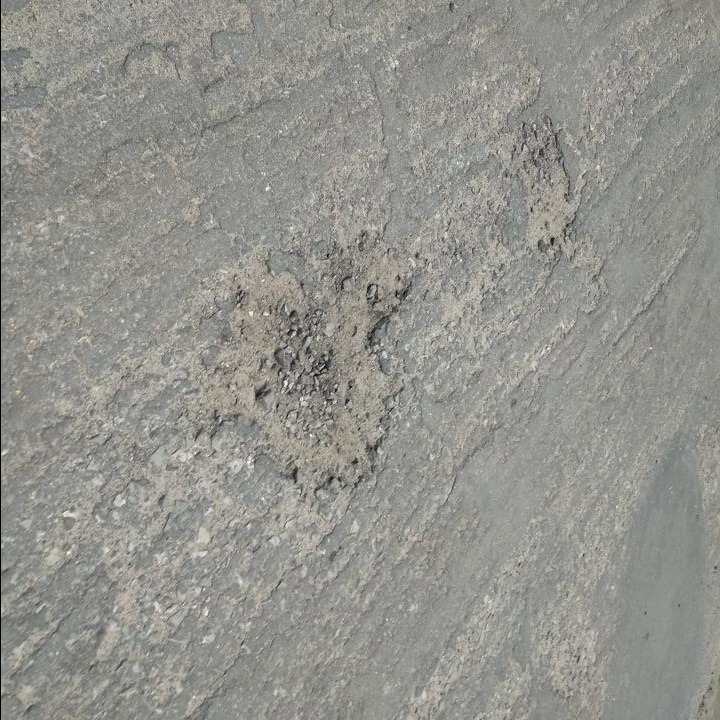pothole: (196, 238, 419, 490), (513, 109, 587, 257)
